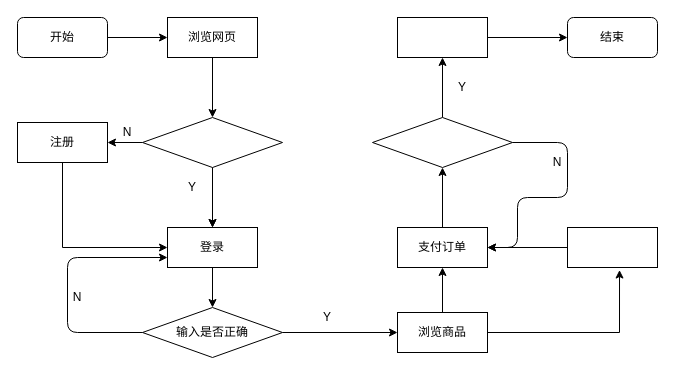
The diagram is 675 pixels wide and 375 high, and some of its shapes have lost their labels. The box of each missing label's shape, as (x1, y1, x2, y2) in pixels:
加入购物车: (566, 226, 658, 268)
是否支付: (372, 116, 512, 168)
是否有账号: (142, 116, 282, 168)
等待收货: (396, 16, 488, 58)
